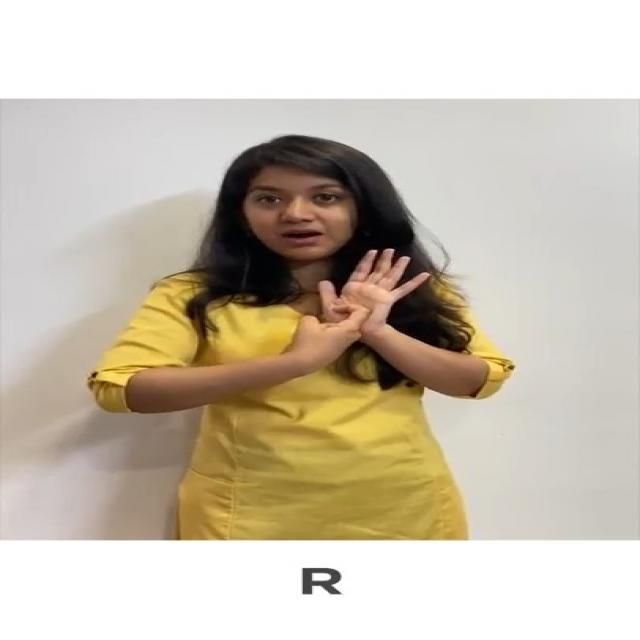R: (283, 245, 438, 374)
